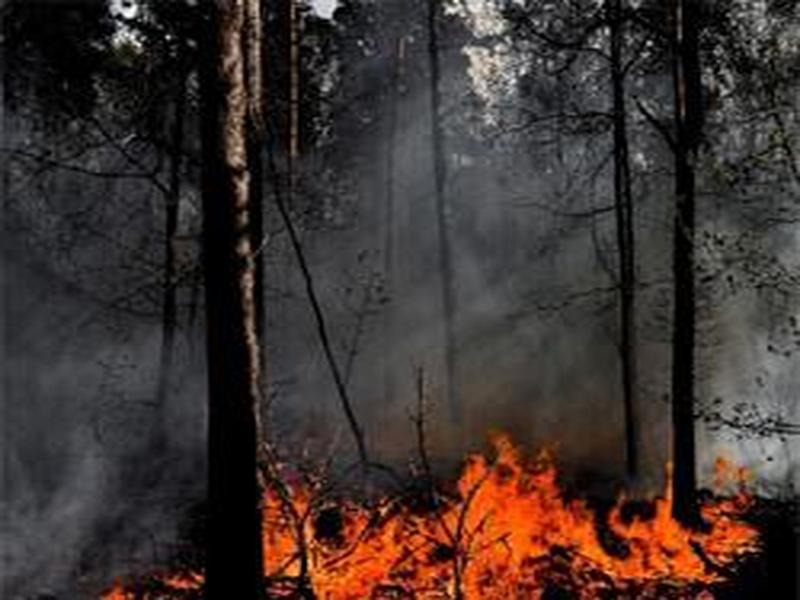FIRE: (242, 425, 800, 586)
